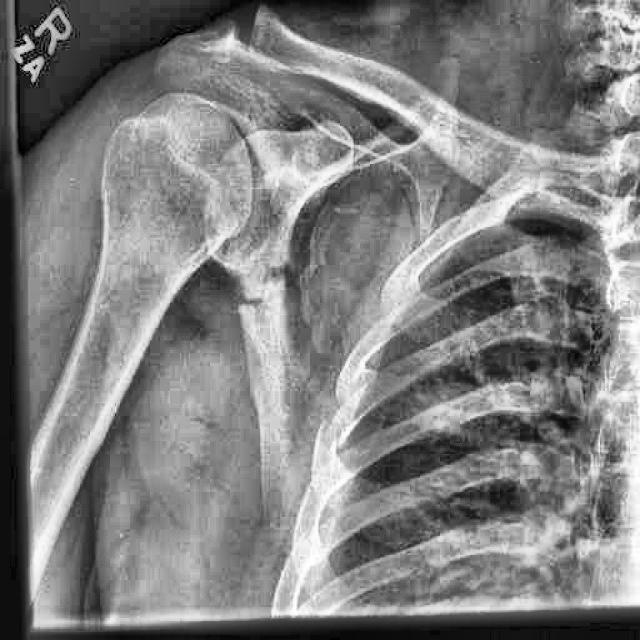shoulder fracture: (215, 254, 306, 353)
